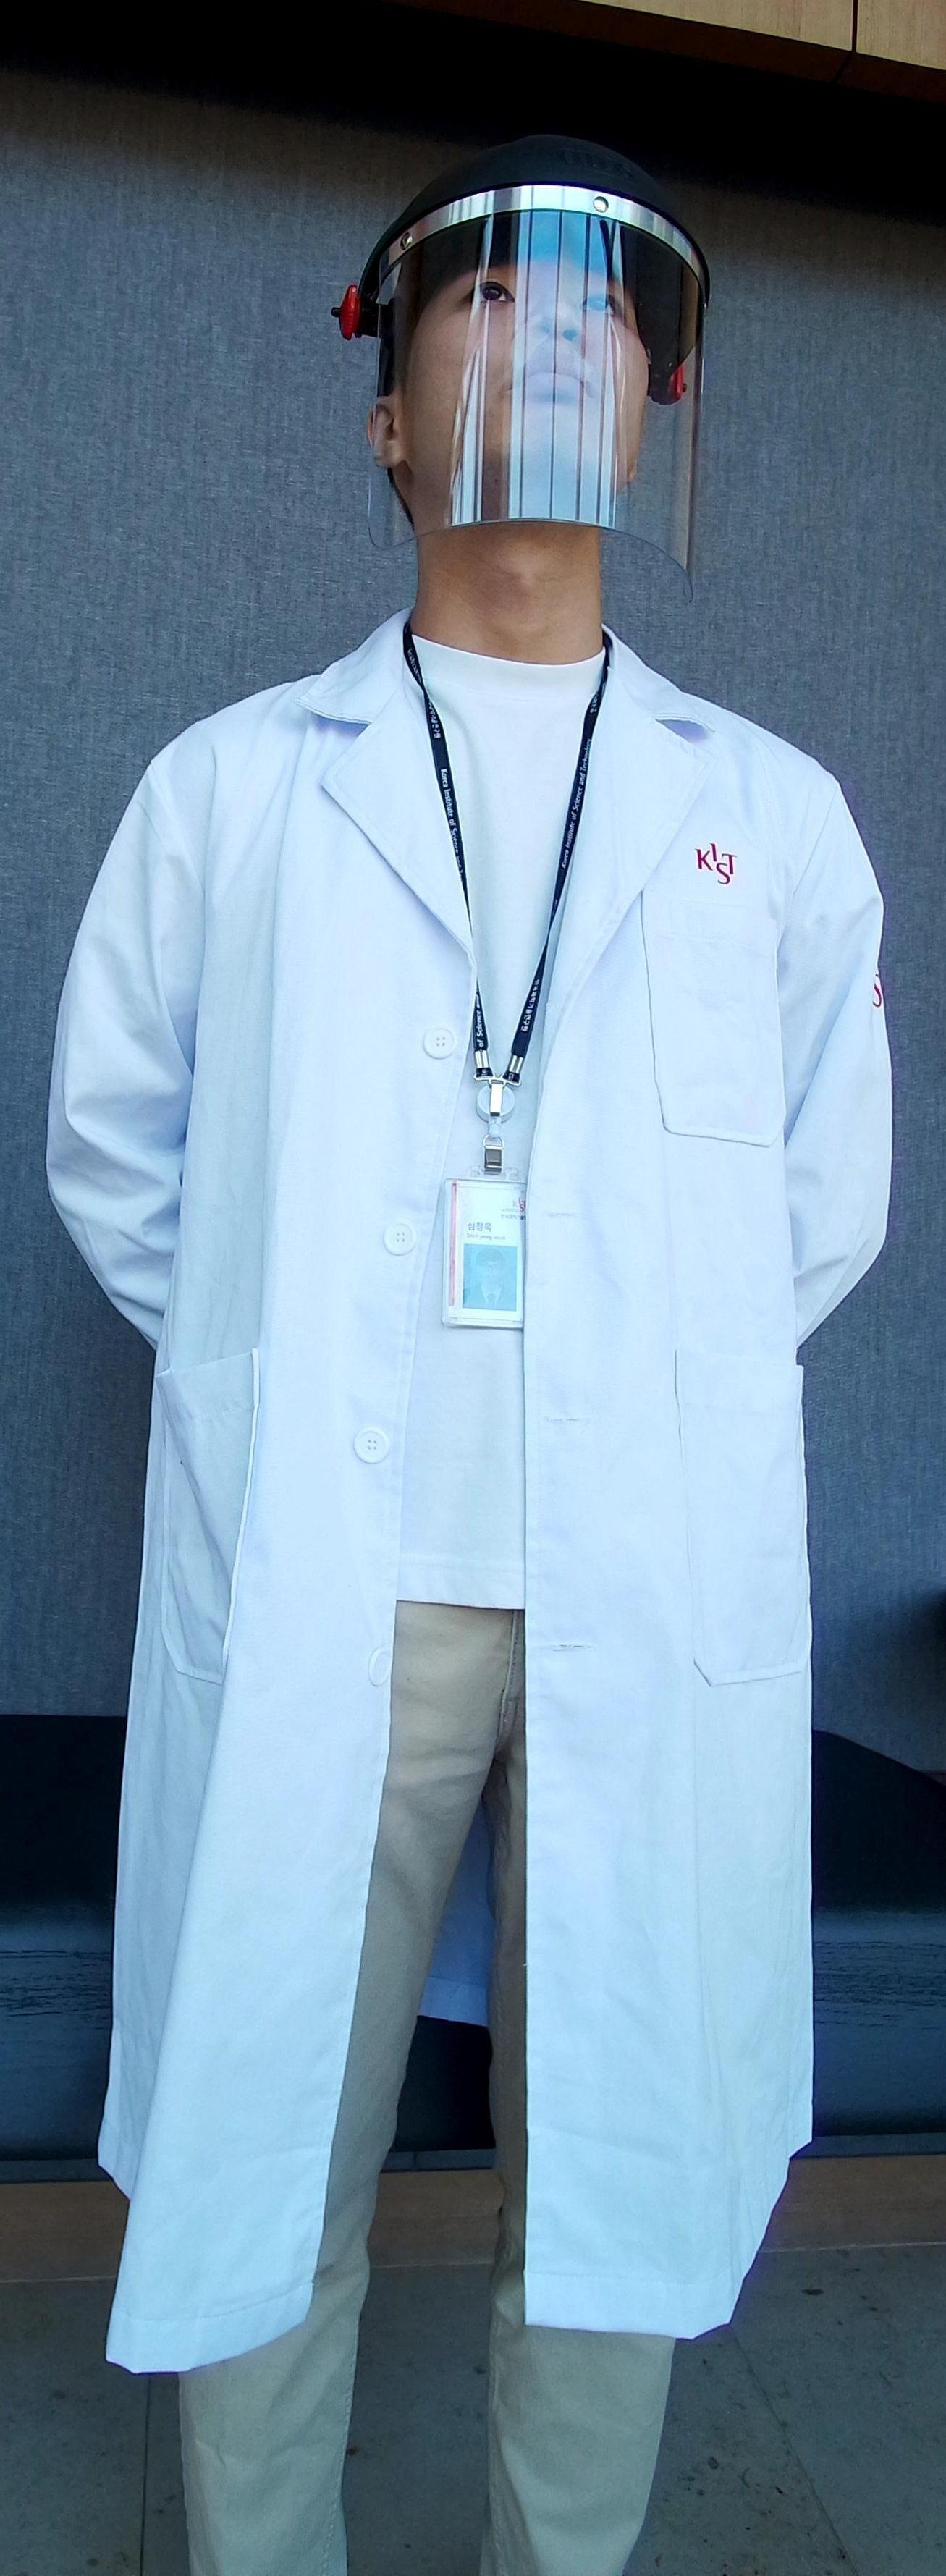lab_coat: (44, 609, 879, 2297)
